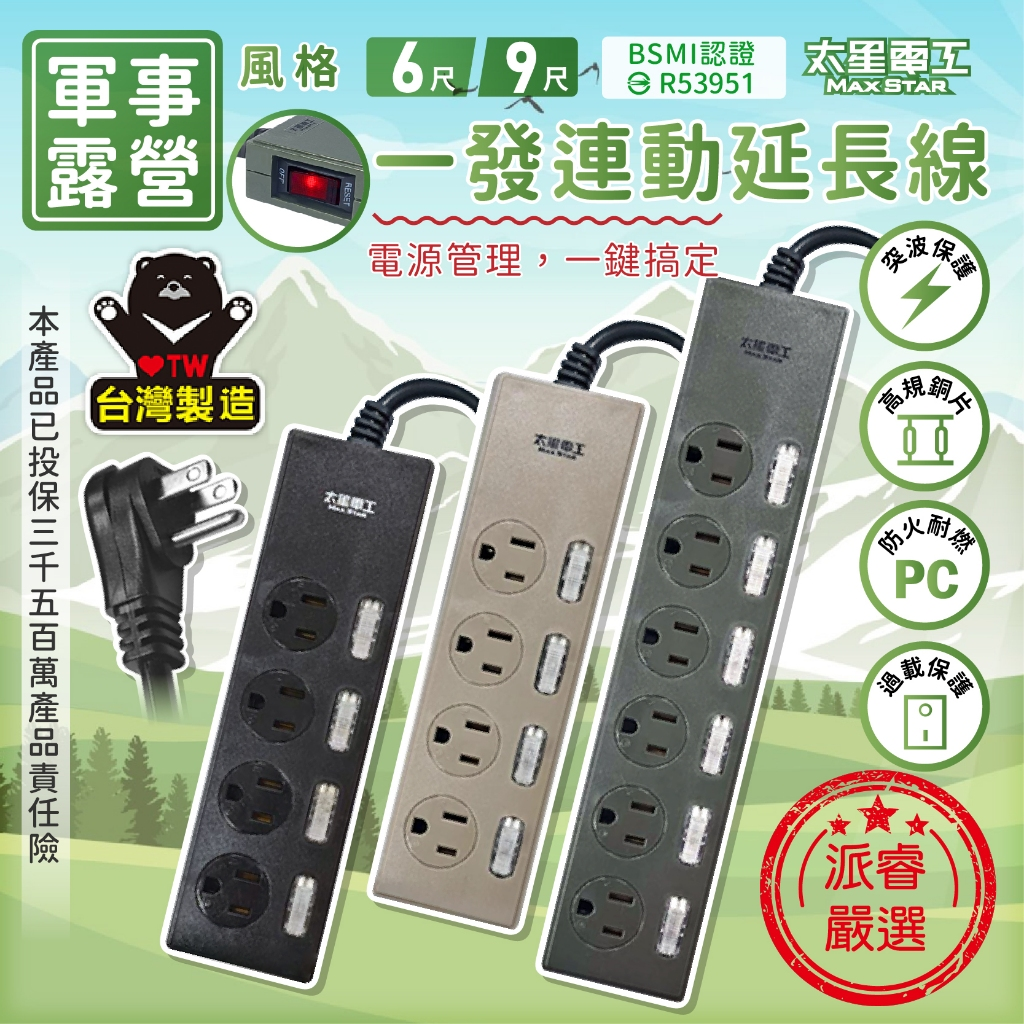socket: (544, 254, 849, 1001), (165, 401, 436, 995), (371, 343, 645, 928)
